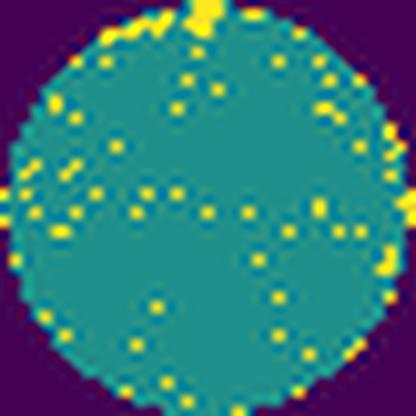Edge-Loc: (96, 10, 176, 51), (180, 0, 231, 47)
